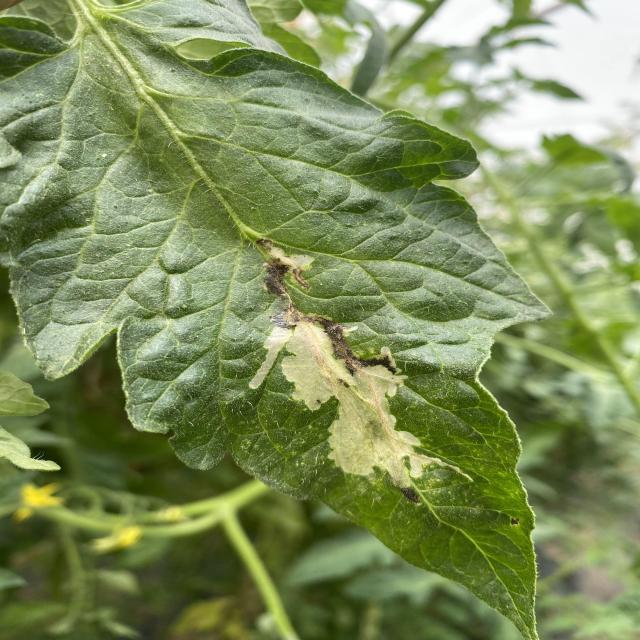Tuta absoluta: (179, 219, 494, 551)
